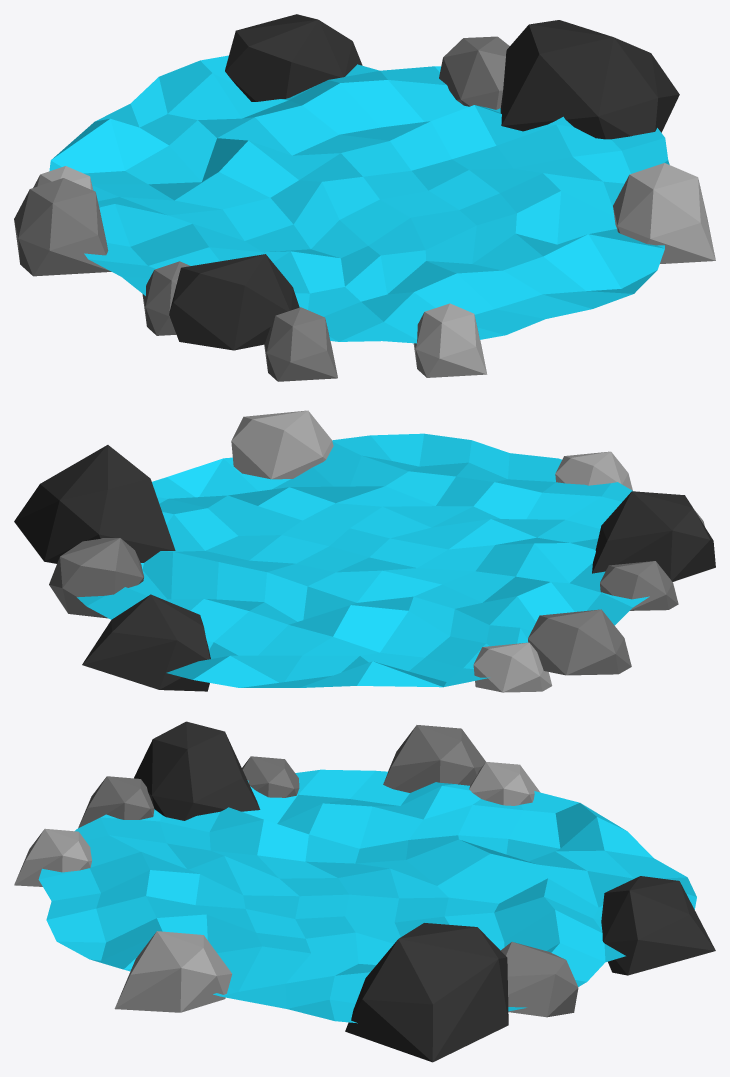
The model's file is rocas y lago.FBX.
3 renders of one model, top to bottom at view 1: azimuth 30°, elevation 25°; view 2: azimuth 150°, elevation 25°; view 3: azimuth 270°, elevation 25°, orthographic. The views are drawn at different scales.
Visible parts, largest first — view 1: lago, roca04; view 2: lago, roca04; view 3: lago, roca04.
Part boxes in pixels (box(x1,y1,x2,y2)): lago: box(49, 55, 669, 343); roca04: box(14, 14, 715, 381); lago: box(77, 433, 649, 687); roca04: box(14, 410, 715, 692); lago: box(38, 769, 696, 1023); roca04: box(14, 721, 715, 1062).
Bounding box in the file's own units: 184 × 29.76 × 181.
